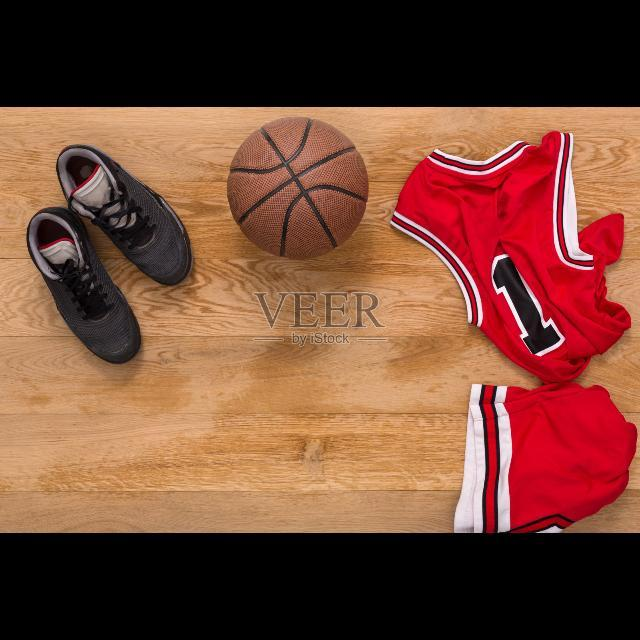basketball: (229, 118, 367, 258)
